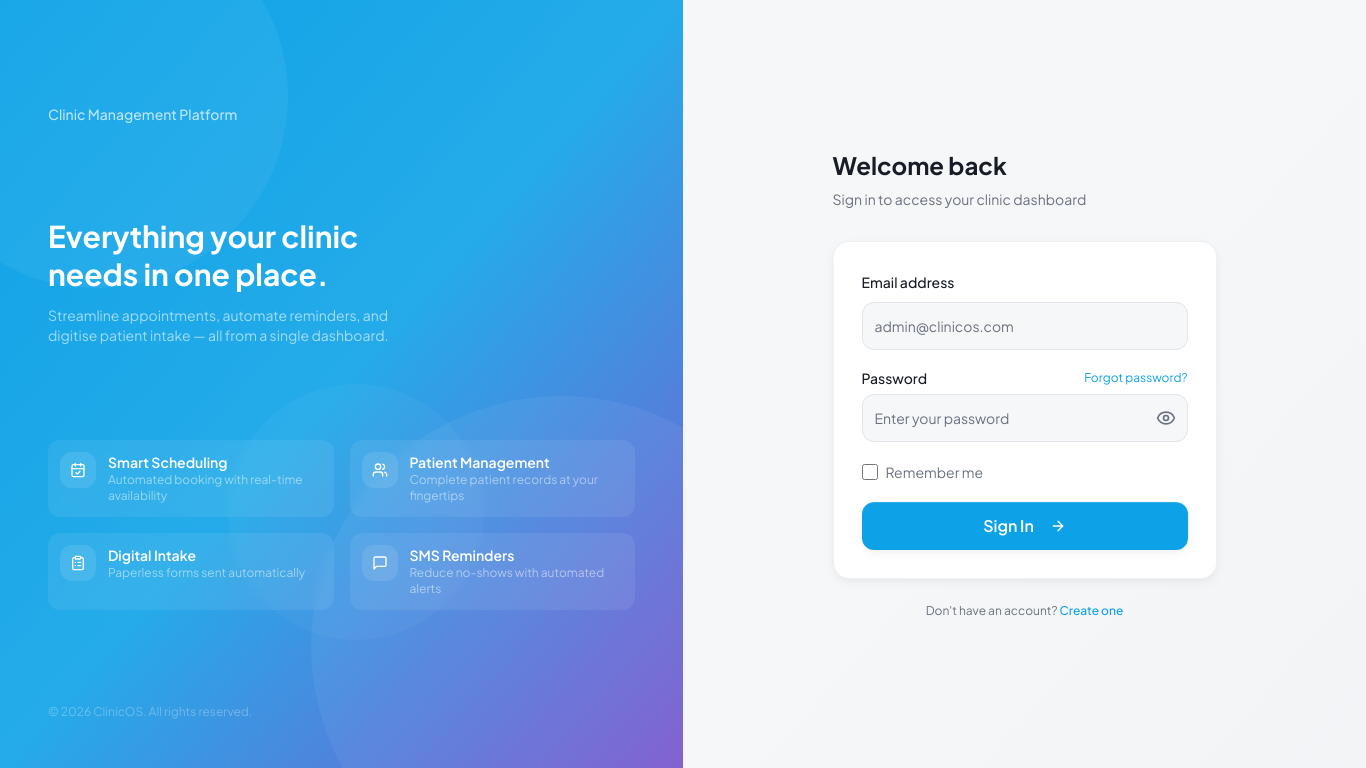
Test: Login › blocks submission and shows Yup errors for empty fields
Click the button "Sign In".
click(1024, 526)  # box [862, 502, 1188, 550]
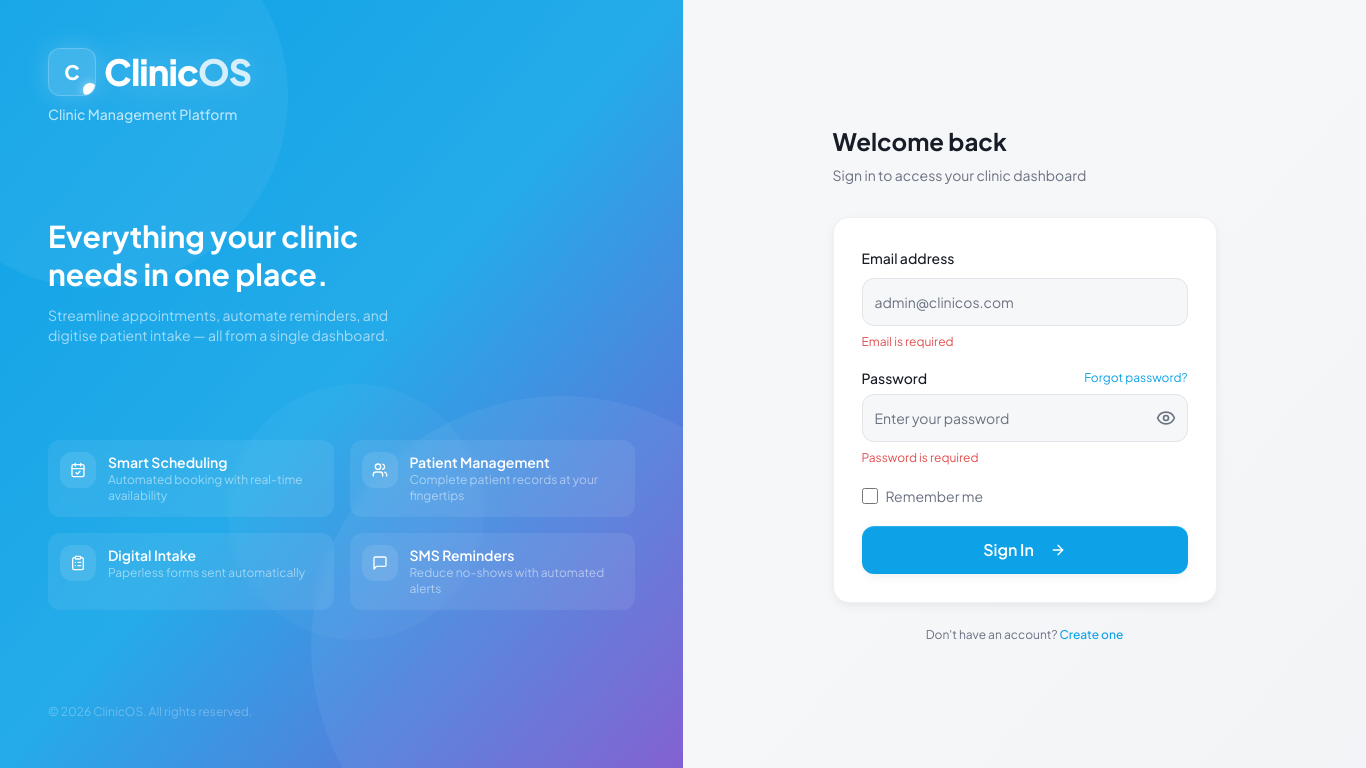
Expected: the text "Email is required" is shown, [862, 334, 954, 349]
Expected: the text "Password is required" is shown, [862, 450, 978, 465]
